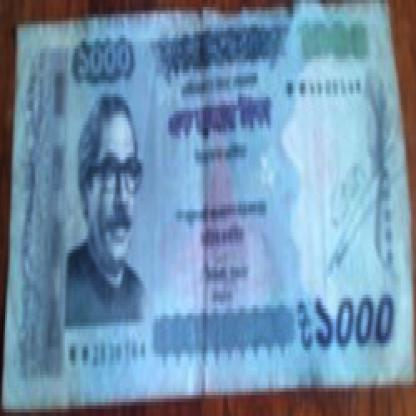One Thousand taka: (293, 291, 396, 354), (75, 42, 133, 86)
